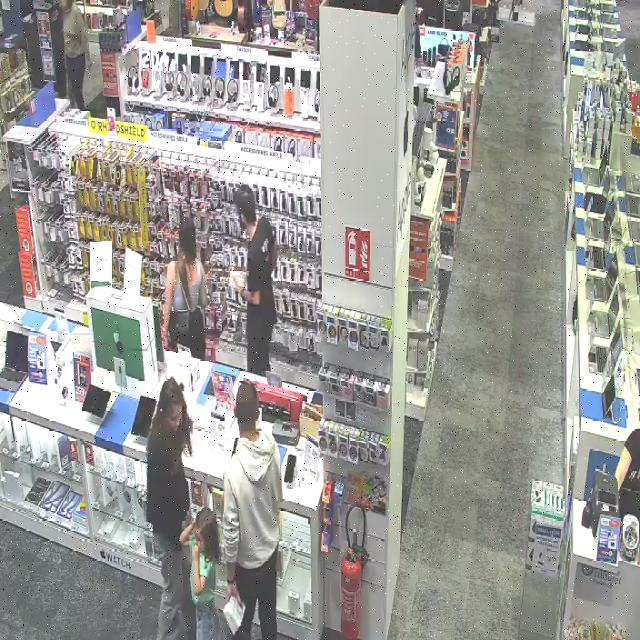article: (223, 597, 244, 632), (230, 270, 245, 290)
hands: (224, 584, 244, 606), (236, 285, 245, 300)
person: (224, 382, 282, 639), (146, 379, 195, 639), (234, 186, 276, 374), (181, 507, 224, 639), (165, 218, 205, 357)
